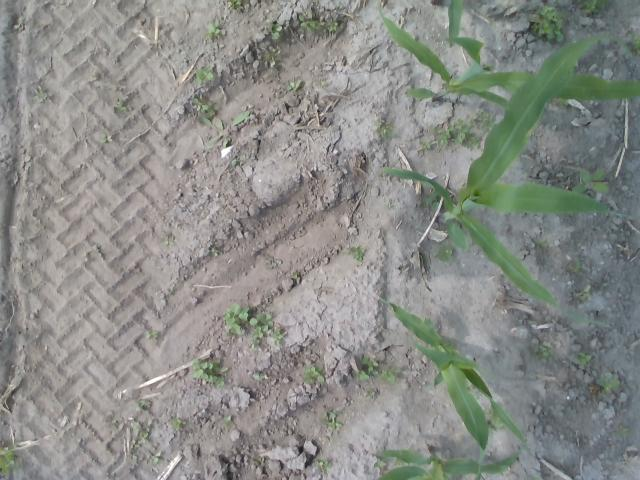Maize: (378, 34, 614, 326), (372, 292, 530, 480), (376, 0, 640, 109), (372, 445, 524, 480)
Weeds: (199, 110, 249, 149), (429, 116, 482, 149), (530, 5, 567, 45), (190, 358, 228, 389), (571, 168, 609, 194), (249, 313, 274, 349), (222, 302, 248, 336), (190, 97, 220, 123), (352, 357, 380, 382), (0, 444, 21, 475), (596, 371, 621, 396), (298, 10, 325, 31), (131, 419, 152, 444), (300, 366, 326, 384), (322, 408, 343, 430), (372, 120, 396, 138), (434, 244, 456, 262), (194, 67, 216, 85), (265, 46, 284, 66), (581, 0, 608, 14), (381, 366, 402, 384), (342, 245, 364, 262), (266, 21, 286, 39), (476, 110, 494, 130), (486, 414, 504, 433), (145, 448, 164, 466), (421, 194, 441, 211), (530, 343, 550, 360), (574, 284, 592, 301), (627, 32, 640, 54), (316, 458, 332, 475), (207, 20, 222, 38), (572, 352, 592, 365), (115, 98, 133, 112), (33, 86, 48, 101), (271, 330, 284, 346), (129, 444, 140, 461), (394, 456, 409, 468), (284, 80, 302, 90), (568, 260, 582, 272), (618, 424, 630, 437), (536, 236, 548, 249), (326, 21, 340, 32), (418, 139, 431, 150), (172, 416, 182, 430), (134, 400, 148, 410), (146, 330, 160, 340), (100, 133, 112, 144), (558, 96, 569, 108), (374, 458, 386, 468), (222, 415, 232, 427), (160, 239, 174, 247), (227, 0, 240, 8), (252, 372, 262, 380), (366, 390, 376, 398), (232, 158, 240, 166), (387, 202, 394, 211), (292, 272, 300, 279), (204, 0, 213, 5), (210, 248, 218, 253)
